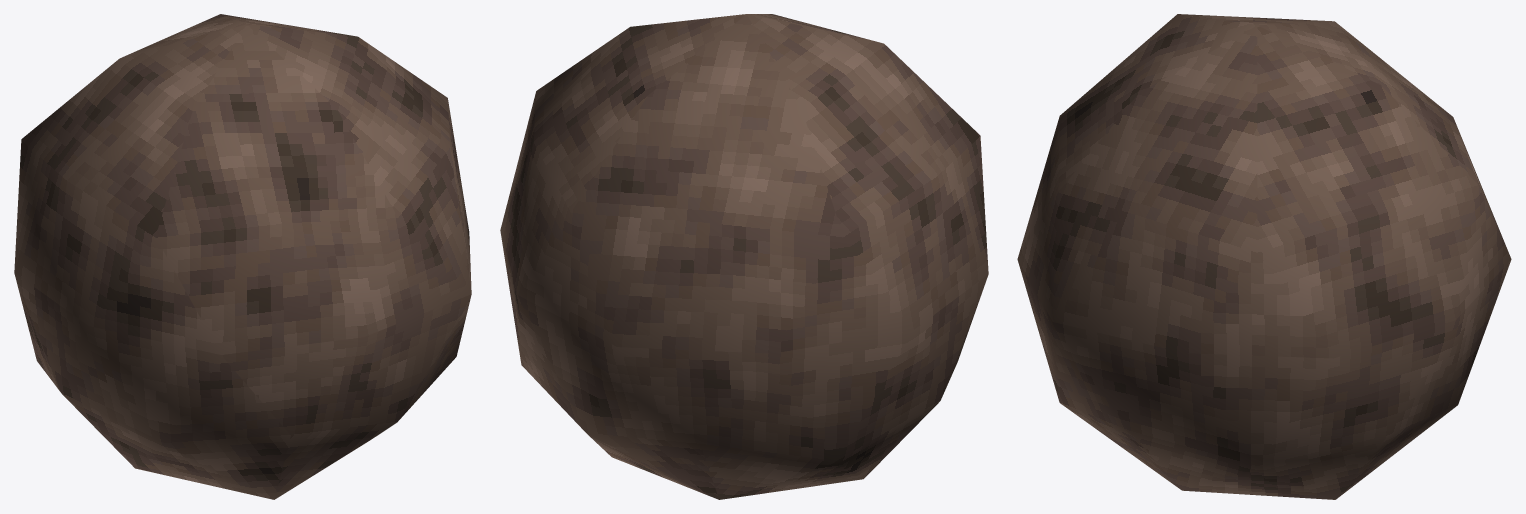
The model's file is rollingrock.glb.
3 views of the same model, side by side, from view 1: azimuth 30°, elevation 25°; view 2: azimuth 150°, elevation 25°; view 3: azimuth 270°, elevation 25° (orthographic). The views are drawn at different scales.
Visible parts, largest first — view 1: rock; view 2: rock; view 3: rock.
Boxes of the visible parts, bbox=[...] form: rock: bbox=[14, 14, 471, 499]; rock: bbox=[500, 14, 988, 499]; rock: bbox=[1017, 14, 1511, 499].
Bounding box in the file's own units: 0.9513 × 1.03 × 0.9983.
Materials: 1 (1 with a texture image).
